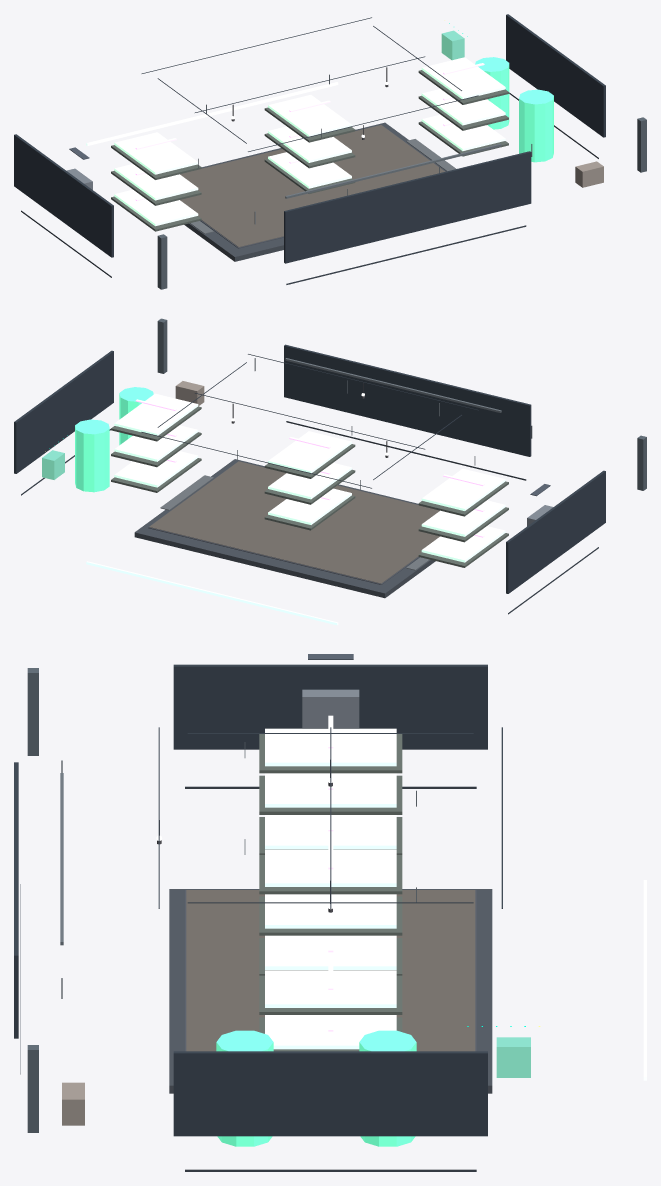
Rendered from floor-aquaponics-bay.glb.
The picture shows the model from 3 angles, top to bottom: view 1: azimuth 30°, elevation 25°; view 2: azimuth 150°, elevation 25°; view 3: azimuth 270°, elevation 25°; orthographic projection. The views are drawn at different scales.
Visible parts, largest first — view 1: WallBack_food, FoodFloor, WallL_food, WallR_food, NutrTank0, Crop_0_2, Crop_2_2, Crop_1_2, Slab_food, Crop_0_1, Crop_2_0, Crop_0_0 (+21 smaller); view 2: FoodFloor, WallBack_food, WallL_food, WallR_food, Slab_food, NutrTank1, Crop_0_2, Crop_2_2, Crop_1_2, Crop_2_0, Crop_2_1, Crop_1_0 (+22 smaller); view 3: WallR_food, FoodFloor, WallL_food, Slab_food, Crop_2_2, Crop_0_2, Crop_1_2, Crop_0_1, Crop_1_1, Crop_1_0, Crop_0_0, Crop_2_1 (+15 smaller).
Boxes of the visible parts, bbox=[...] form: WallBack_food: bbox=[284, 151, 531, 263]; FoodFloor: bbox=[180, 125, 444, 247]; WallL_food: bbox=[14, 134, 113, 257]; WallR_food: bbox=[506, 14, 605, 137]; NutrTank0: bbox=[519, 89, 553, 162]; Crop_0_2: bbox=[114, 132, 197, 174]; Crop_2_2: bbox=[421, 57, 505, 99]; Crop_1_2: bbox=[268, 95, 351, 136]; Slab_food: bbox=[184, 122, 446, 261]; Crop_0_1: bbox=[114, 164, 198, 200]; Crop_2_0: bbox=[421, 114, 505, 151]; Crop_0_0: bbox=[114, 189, 198, 226]; FoodFloor: bbox=[149, 461, 439, 583]; WallBack_food: bbox=[284, 344, 531, 456]; WallL_food: bbox=[506, 470, 605, 593]; WallR_food: bbox=[14, 350, 113, 473]; Slab_food: bbox=[134, 459, 435, 598]; NutrTank1: bbox=[75, 419, 109, 492]; Crop_0_2: bbox=[421, 468, 505, 510]; Crop_2_2: bbox=[114, 393, 198, 435]; Crop_1_2: bbox=[268, 431, 351, 473]; Crop_2_0: bbox=[114, 451, 198, 487]; Crop_2_1: bbox=[114, 425, 198, 461]; Crop_1_0: bbox=[268, 488, 351, 524]; WallR_food: bbox=[173, 1051, 487, 1136]; FoodFloor: bbox=[186, 890, 475, 1051]; WallL_food: bbox=[173, 664, 487, 749]; Slab_food: bbox=[169, 889, 492, 1093]; Crop_2_2: bbox=[265, 970, 396, 1007]; Crop_0_2: bbox=[265, 728, 396, 766]; Crop_1_2: bbox=[265, 849, 396, 886]; Crop_0_1: bbox=[265, 773, 396, 807]; Crop_1_1: bbox=[265, 894, 396, 928]; Crop_1_0: bbox=[265, 935, 396, 969]; Crop_0_0: bbox=[265, 815, 396, 849]; Crop_2_1: bbox=[265, 1015, 396, 1049].
Size of the model in its own units: 16.08 by 3.42 by 11.07.
